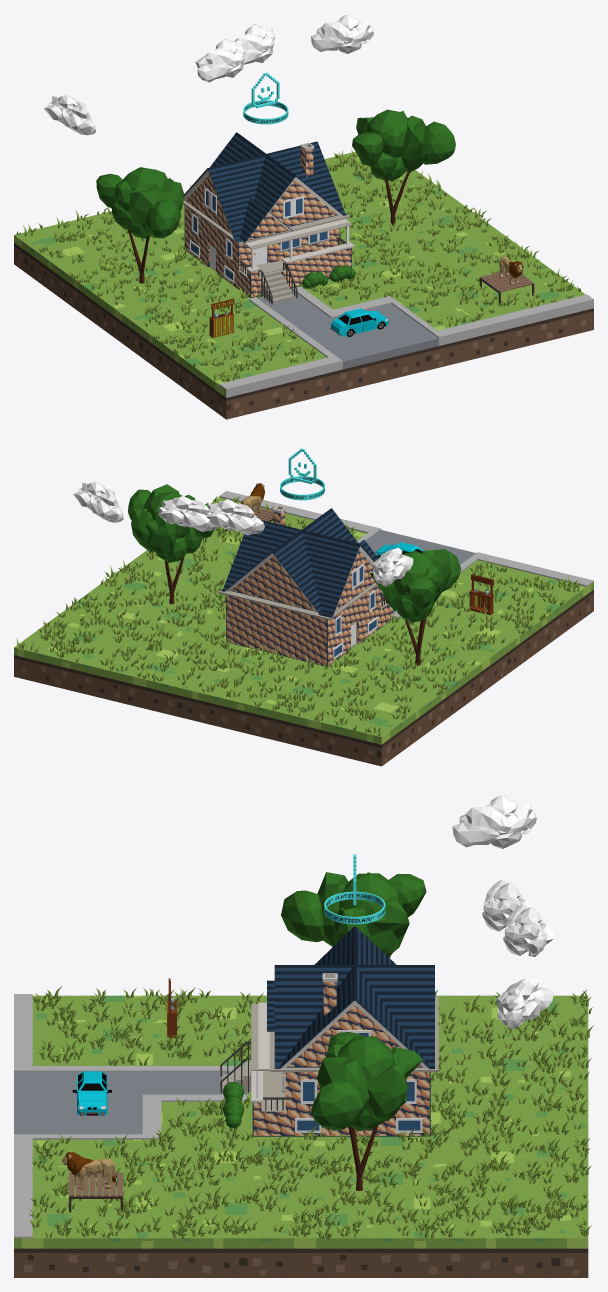
3 views of the same model, one above another, from view 1: azimuth 30°, elevation 25°; view 2: azimuth 150°, elevation 25°; view 3: azimuth 270°, elevation 25° (orthographic). The views are drawn at different scales.
Visible parts, largest first — view 1: Cube.006, Cube.430, Circle.012_Grass_0.192, Cube.007, tree, tree.001, VEHICLES_CAR, TYPE_PREMIUM, OBJRANDOM_LEMONADE_STAND, Cube.009; view 2: Cube.006, Cube.430, Circle.012_Grass_0.192, Cube.007, tree.001, tree, TYPE_PREMIUM, OBJRANDOM_LEMONADE_STAND; view 3: Cube.006, Circle.012_Grass_0.192, Cube.430, tree, Cube.007, tree.001, VEHICLES_CAR, Cube.009, TYPE_PREMIUM, ANIMAL_LEON.
Part boxes in pixels (x1=…): Cube.006: x1=14, y1=151, x2=593, y2=419; Cube.430: x1=183, y1=132, x2=354, y2=304; Circle.012_Grass_0.192: x1=16, y1=149, x2=580, y2=381; Cube.007: x1=44, y1=14, x2=373, y2=135; tree: x1=352, y1=109, x2=455, y2=225; tree.001: x1=96, y1=167, x2=184, y2=283; VEHICLES_CAR: x1=330, y1=308, x2=388, y2=336; TYPE_PREMIUM: x1=243, y1=72, x2=288, y2=124; OBJRANDOM_LEMONADE_STAND: x1=209, y1=298, x2=234, y2=337; Cube.009: x1=479, y1=271, x2=534, y2=303; Cube.006: x1=14, y1=491, x2=593, y2=766; Cube.430: x1=218, y1=505, x2=393, y2=666; Circle.012_Grass_0.192: x1=16, y1=496, x2=580, y2=736; Cube.007: x1=73, y1=481, x2=413, y2=586; tree.001: x1=370, y1=549, x2=460, y2=665; tree: x1=128, y1=484, x2=214, y2=604; TYPE_PREMIUM: x1=280, y1=448, x2=324, y2=500; OBJRANDOM_LEMONADE_STAND: x1=469, y1=574, x2=493, y2=615; Cube.006: x1=14, y1=994, x2=588, y2=1277; Circle.012_Grass_0.192: x1=29, y1=986, x2=593, y2=1239; Cube.430: x1=220, y1=926, x2=438, y2=1136; tree: x1=311, y1=1032, x2=422, y2=1190; Cube.007: x1=452, y1=795, x2=553, y2=1029; tree.001: x1=281, y1=872, x2=426, y2=957; VEHICLES_CAR: x1=72, y1=1071, x2=111, y2=1115; Cube.009: x1=69, y1=1172, x2=122, y2=1212; TYPE_PREMIUM: x1=324, y1=854, x2=385, y2=924; ANIMAL_LEON: x1=62, y1=1151, x2=115, y2=1188.
Bounding box in the file's own units: 4071 × 2317 × 4040.
Materials: 44 (5 with a texture image).
